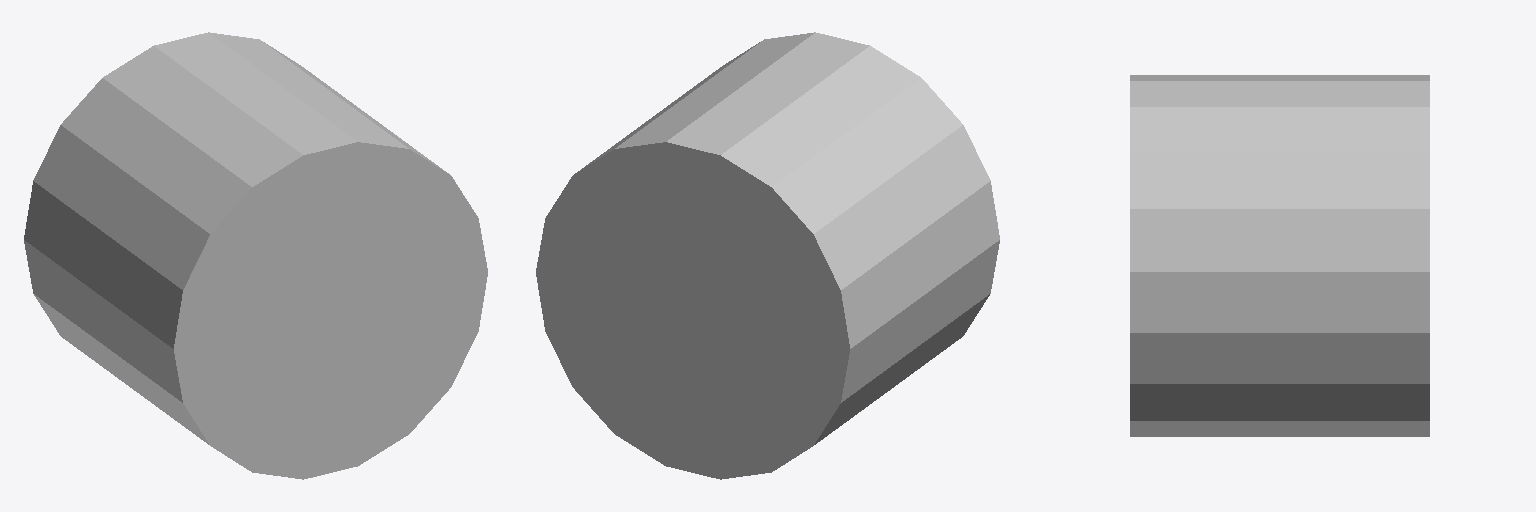
File: Nucleo Centrale.obj
3 views of the same model, side by side, from view 1: azimuth 30°, elevation 25°; view 2: azimuth 150°, elevation 25°; view 3: azimuth 270°, elevation 25° (orthographic).
Visible parts, largest first — view 1: Cylinder001; view 2: Cylinder001; view 3: Cylinder001.
Boxes of the visible parts, x1,y1,x2,y2 form: Cylinder001: [24, 32, 487, 479]; Cylinder001: [536, 32, 999, 479]; Cylinder001: [1130, 75, 1429, 436].
Bounding box in the file's own units: 541 × 533 × 447.